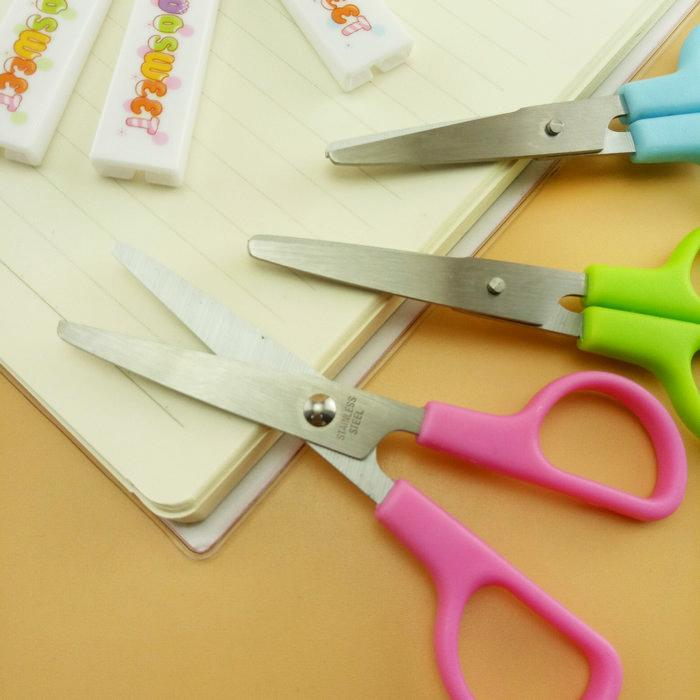scissor: (85, 154, 700, 690)
